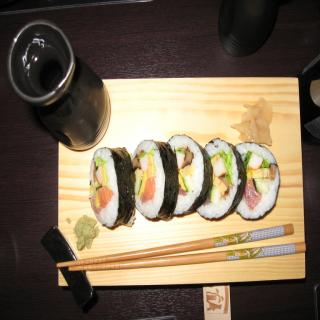Sushi: (88, 133, 280, 231), (88, 149, 133, 233)
